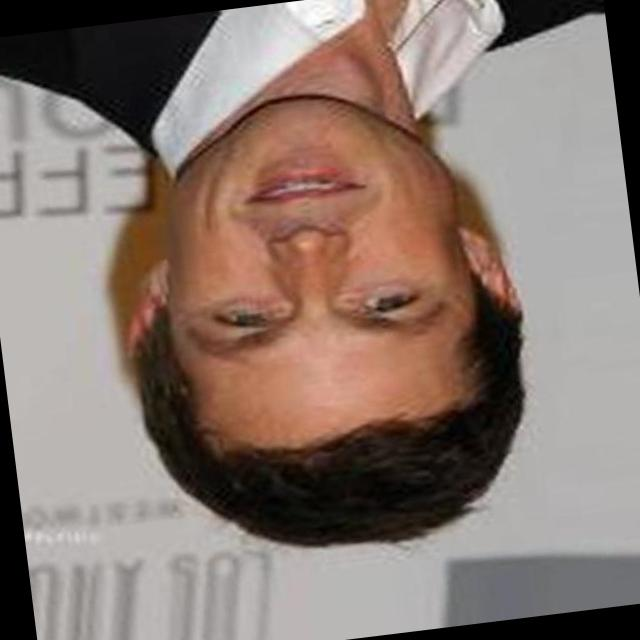bareface: (124, 89, 518, 542)
